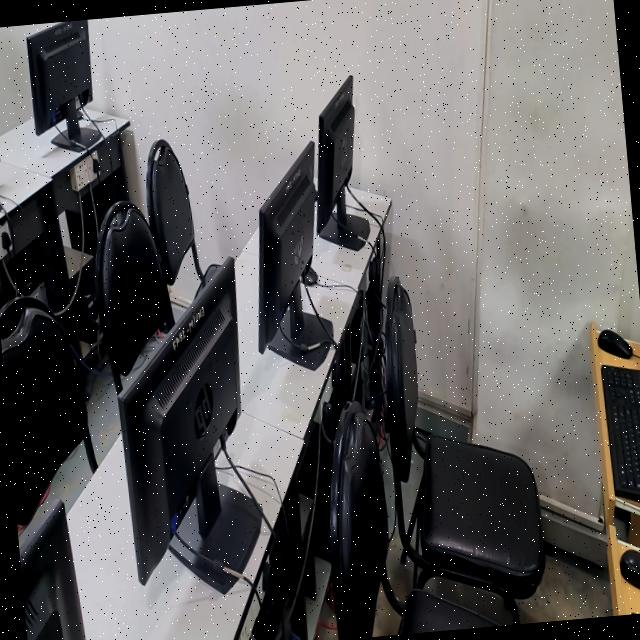Chair: (384, 277, 545, 624), (0, 308, 87, 525), (96, 201, 170, 392), (330, 402, 388, 640), (146, 139, 204, 285), (392, 589, 501, 634)
Keyboard: (601, 364, 640, 502)
Monitor: (118, 257, 262, 593), (258, 141, 332, 370), (19, 499, 86, 640), (27, 19, 98, 151), (316, 75, 368, 250)
Mouse: (597, 329, 633, 358), (620, 549, 640, 588)
